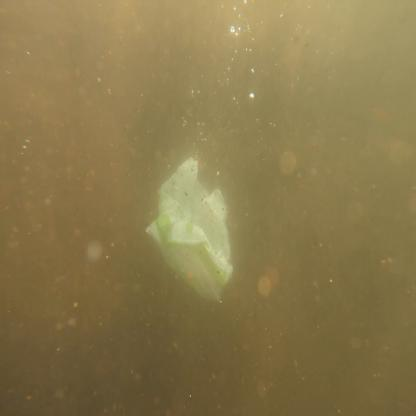Rác: (152, 156, 240, 314)
